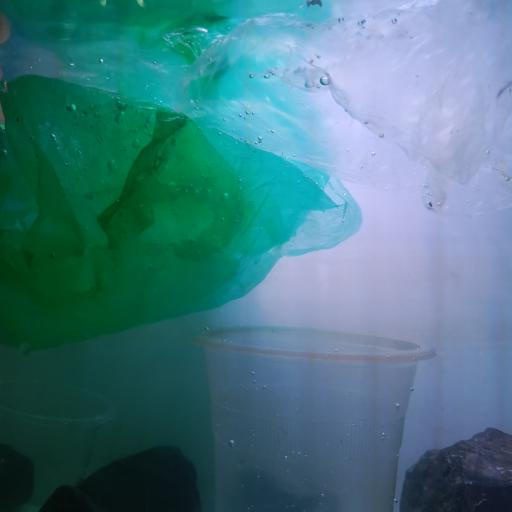plastic_bag: (0, 69, 358, 350), (166, 1, 512, 181)
plastic_cup: (188, 322, 436, 512), (0, 376, 117, 512)
